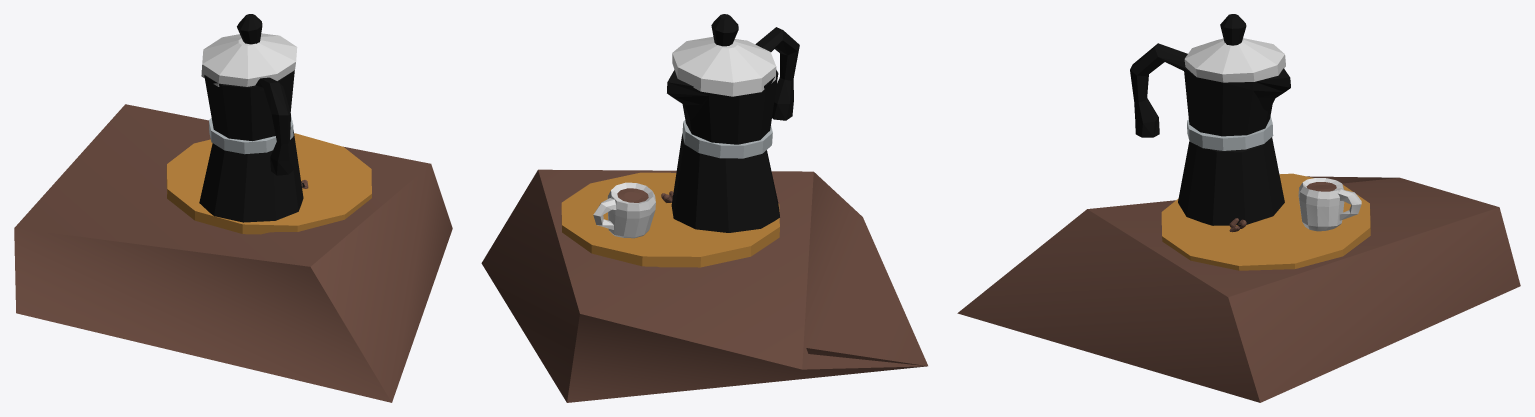
3 views of the same model, side by side, from view 1: azimuth 30°, elevation 25°; view 2: azimuth 150°, elevation 25°; view 3: azimuth 270°, elevation 25° (orthographic). The views are drawn at different scales.
Parts seen in each view (by area): view 1: node_MeshObject73684992-PolyPaper21; view 2: node_MeshObject73684992-PolyPaper21; view 3: node_MeshObject73684992-PolyPaper21.
Boxes of the visible parts, x1,y1,x2,y2 form: node_MeshObject73684992-PolyPaper21: (14,14,452,402); node_MeshObject73684992-PolyPaper21: (481,14,927,402); node_MeshObject73684992-PolyPaper21: (957,14,1520,402).
Bounding box in the file's own units: 0.9335 × 0.6026 × 1.04.
